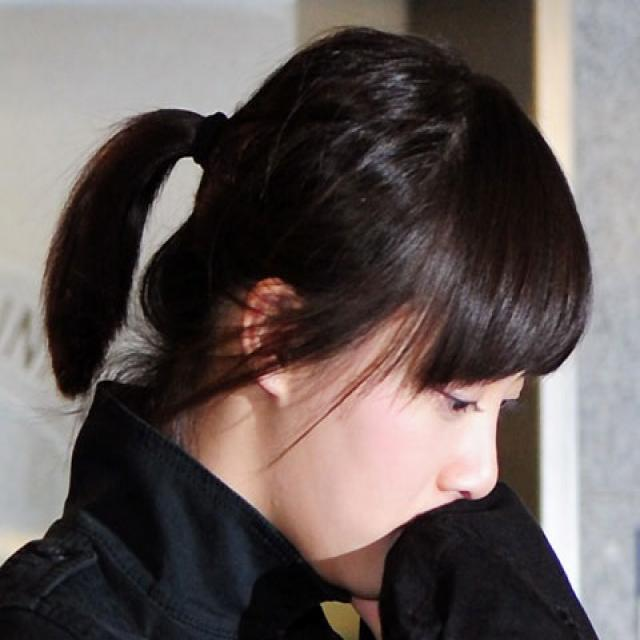nomask: (282, 248, 534, 604)
